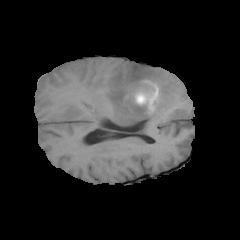glioma: (58, 66, 181, 125)
